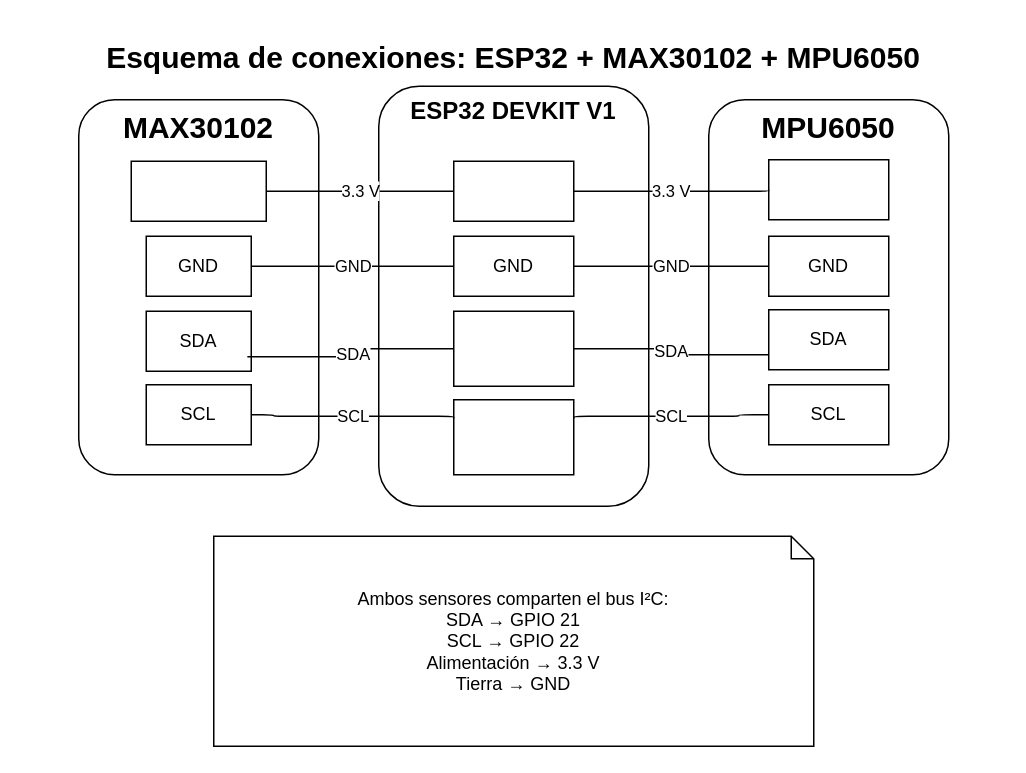
Some shapes in this 1026 by 773 pixel diagram are drawn without their labels. The centre of each missing label's shape, as x and y in pixels:
3.3V: the point at 513,190
GPIO 21 SDA: the point at 513,348
GPIO 22 SCL: the point at 513,436
VCC: the point at 828,189
VIN / VCC: the point at 198,190
